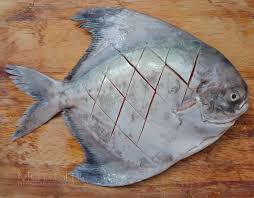Ikan Bawal: (2, 3, 254, 190)
